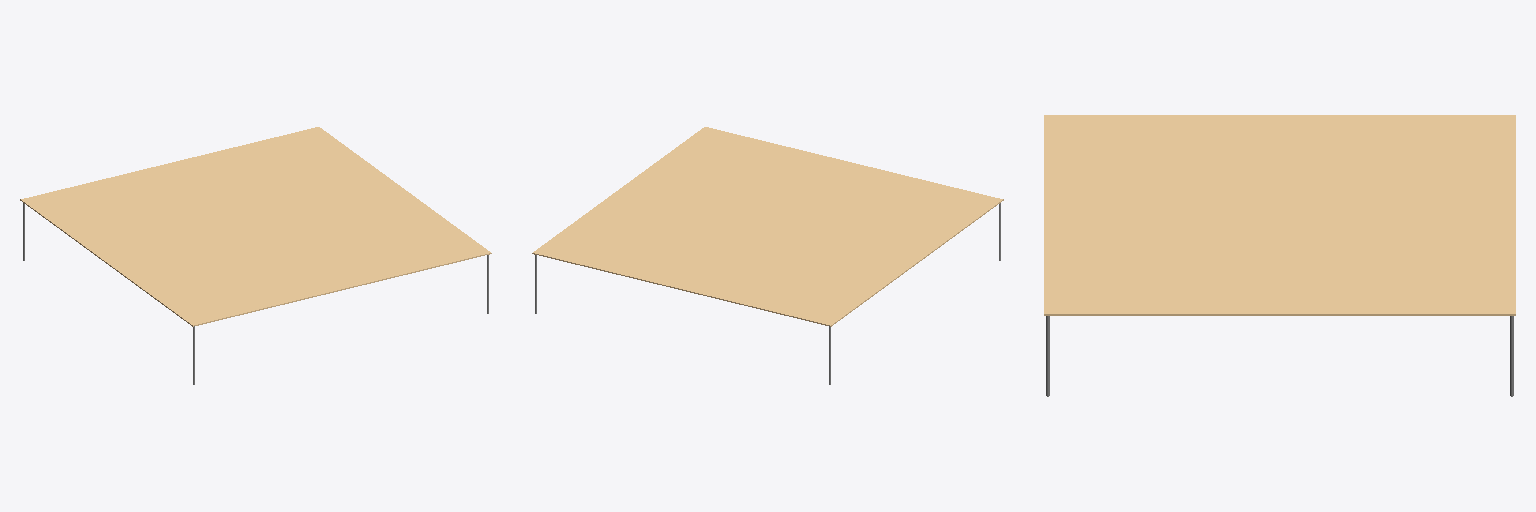
The robot description file, URDF, robot "box":
<?xml version="1.0" ?>
<robot name="box">

    <material name="panda_white">
        <color rgba="1. 0.87 0.68 1."/>
    </material>

    <material name="metal">
        <color rgba="0.6 0.6 0.6 1."/>
    </material>

    <material name="orangered">
        <color rgba="1 0.34 0.2 0.5"/>
    </material>


    <link name="link1">
        <inertial>
            <origin rpy="0 0 0" xyz="0 0 0"/>
            <mass value=".0"/>
            <inertia ixx="0" ixy="0" ixz="0" iyy="0" iyz="0" izz="0"/>
        </inertial>

        <visual>
            <origin rpy="0 0 0" xyz="0.0 0 0.25"/>
            <geometry>
                <box size="1.3 1.3 0.005"/>
            </geometry>
            <material name="panda_white"/>
        </visual>
    </link>

    <link name="link2">
        <inertial>
            <origin rpy="0 0 0" xyz="0 0 0"/>
            <mass value=".0"/>
            <inertia ixx="0" ixy="0" ixz="0" iyy="0" iyz="0" izz="0"/>
        </inertial>

        <visual>
            <origin rpy="0 0 0" xyz="0.64 0.64 0.125"/>
            <geometry>
                <cylinder radius="0.005" length="0.25"/>
            </geometry>
            <material name="metal"/>
        </visual>

        <visual>
            <origin rpy="0 0 0" xyz="0.64 -0.64 0.125"/>
            <geometry>
                <cylinder radius="0.005" length="0.25"/>
            </geometry>
            <material name="metal"/>
        </visual>

        <visual>
            <origin rpy="0 0 0" xyz="-0.64 0.64 0.125"/>
            <geometry>
                <cylinder radius="0.005" length="0.25"/>
            </geometry>
            <material name="metal"/>
        </visual>

        <visual>
            <origin rpy="0 0 0" xyz="-0.64 -0.64 0.125"/>
            <geometry>
                <cylinder radius="0.005" length="0.25"/>
            </geometry>
            <material name="metal"/>
        </visual>

    </link>
    

    <joint name="fixed_joint" type="fixed">
        <parent link="link1"/>
        <child link="link2"/>
        <origin xyz="0 0 0" rpy="0 0 0"/>
    </joint>

</robot>

--- Facts derived from the render (not from the file) ---
The picture shows the robot from 3 angles, left to right: view 1: azimuth 30°, elevation 25°; view 2: azimuth 150°, elevation 25°; view 3: azimuth 270°, elevation 25°; orthographic projection.
Model box with 2 links and 1 joints (1 fixed), rooted at link1, posed all joints at 0.
Visible links, largest first — view 1: link1; view 2: link1; view 3: link1, link2.
Link boxes in pixels (x1=…): link1: x1=20, y1=127, x2=491, y2=326; link1: x1=532, y1=127, x2=1003, y2=326; link1: x1=1044, y1=115, x2=1515, y2=315; link2: x1=1046, y1=316, x2=1513, y2=396.
Size in the robot's own frame: 1.3 by 1.3 by 0.2525 metres.
Geometry: primitives only (box / cylinder / sphere), no mesh files.
